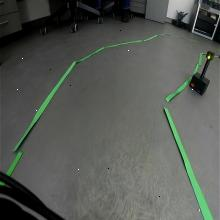green: (206, 50, 215, 61)
